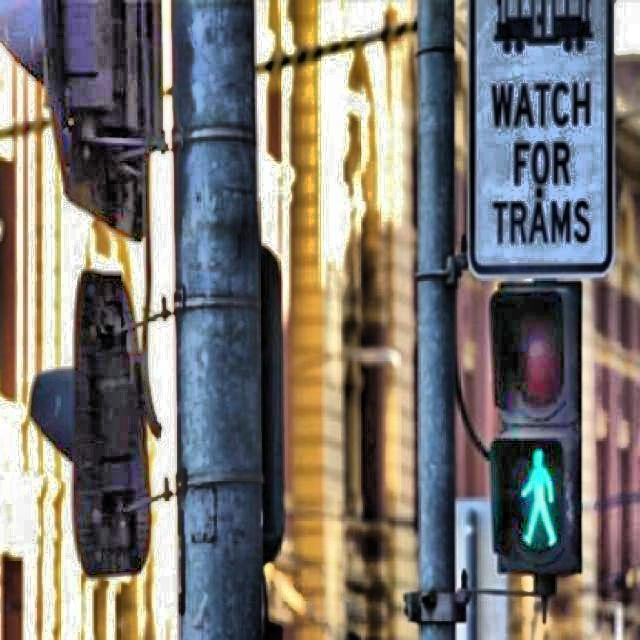semaforo pedestre: (426, 242, 634, 626)
